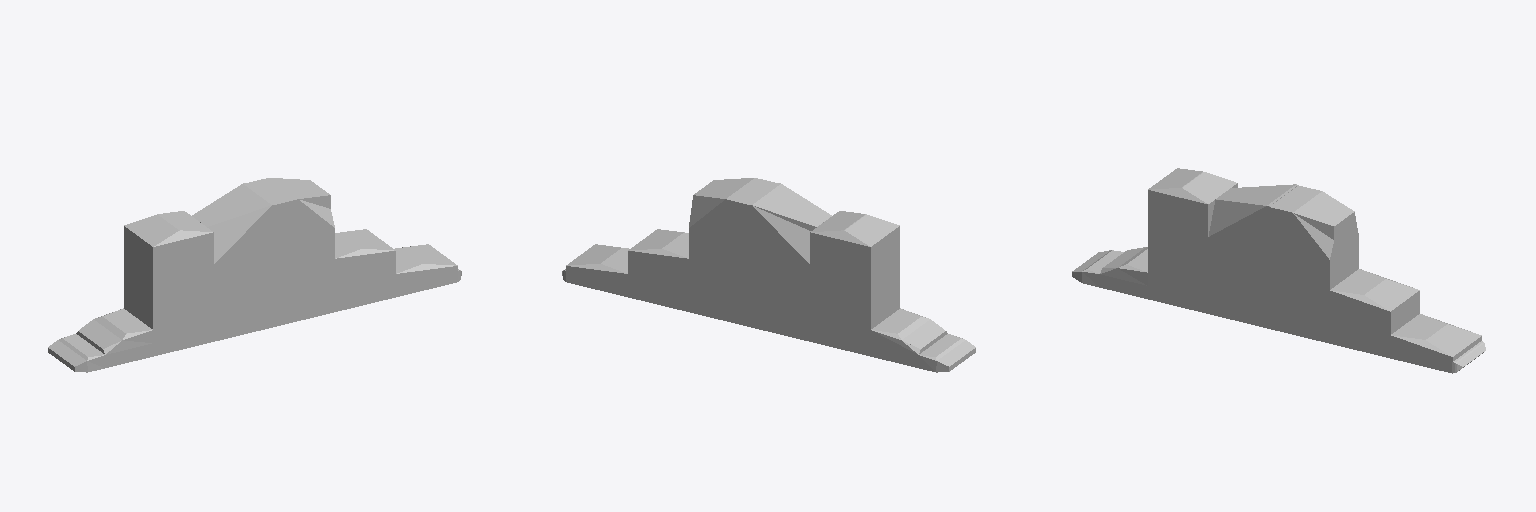
File: wall broken wall.obj
3 renders of one model, left to right at view 1: azimuth 30°, elevation 25°; view 2: azimuth 150°, elevation 25°; view 3: azimuth 330°, elevation 25°, orthographic.
Parts seen in each view (by area): view 1: Cube; view 2: Cube; view 3: Cube.
Part boxes in pixels (left/top/right/bottom): Cube: left=48, top=178, right=461, bottom=372; Cube: left=562, top=178, right=975, bottom=372; Cube: left=1072, top=168, right=1485, bottom=373.
Bounding box in the file's own units: 21.08 × 6.33 × 2.77.